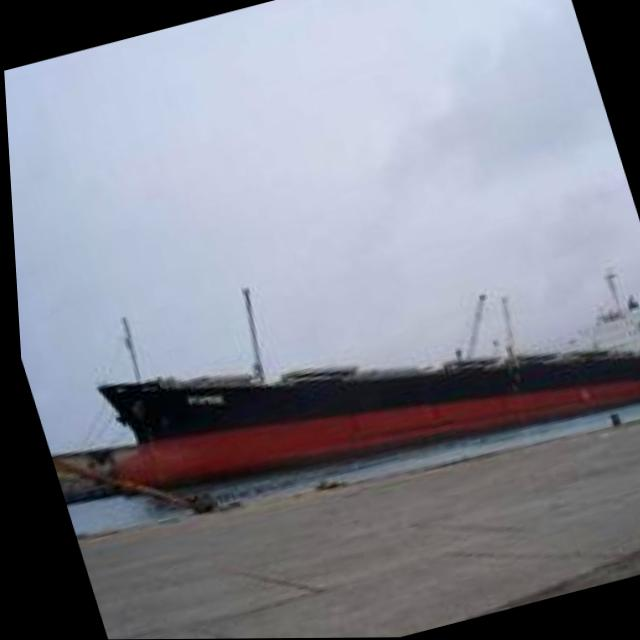ship2: (95, 265, 640, 495)
